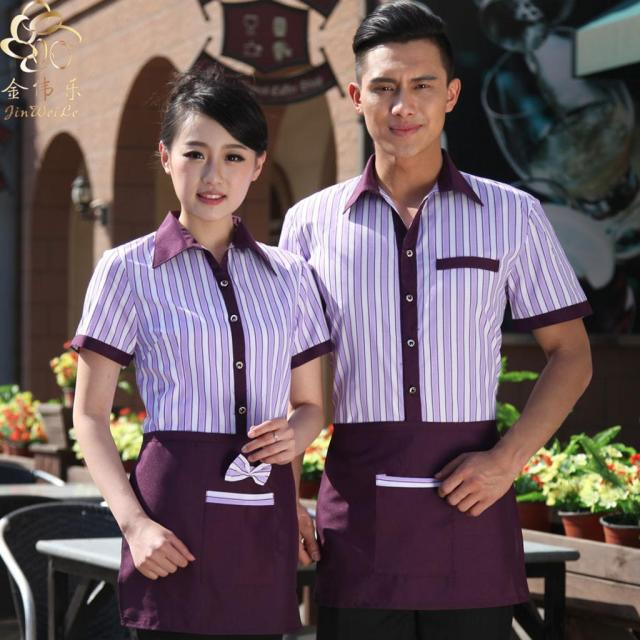Face: (351, 42, 460, 160), (166, 107, 266, 219)
